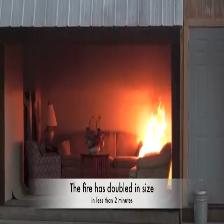fire: (140, 106, 166, 155)
